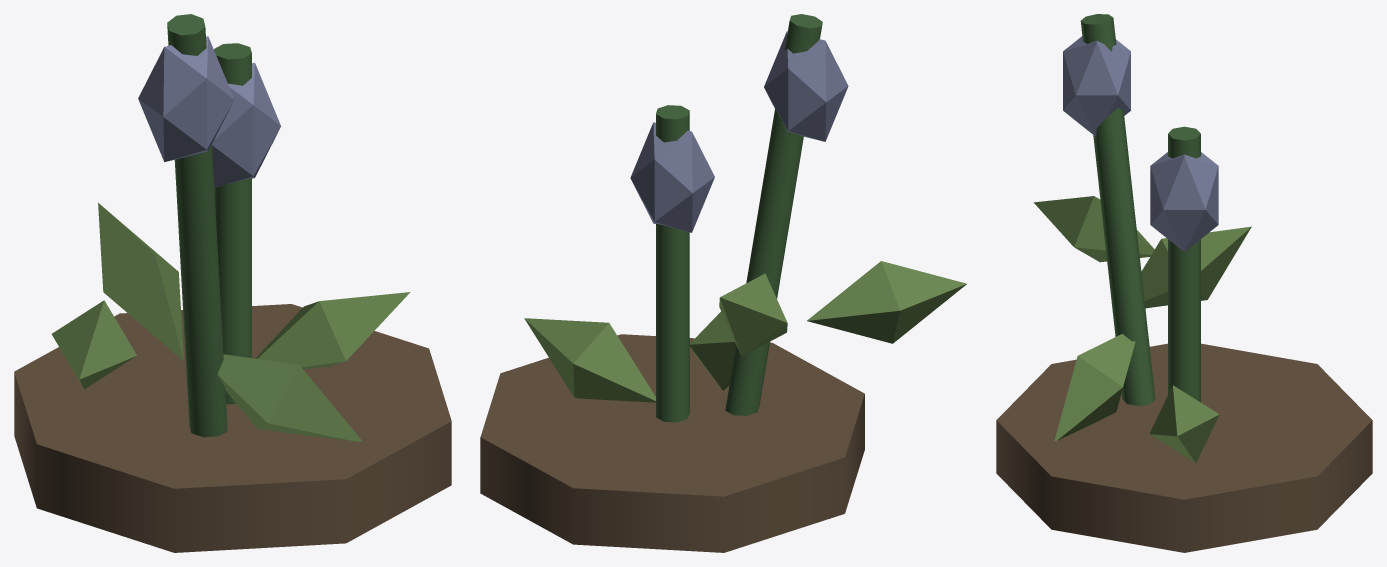
The model's file is plant-lavender-1.glb.
3 renders of one model, left to right at view 1: azimuth 30°, elevation 25°; view 2: azimuth 150°, elevation 25°; view 3: azimuth 270°, elevation 25°, orthographic. The views are drawn at different scales.
Visible parts, largest first — view 1: plant-lavender-1-visual; view 2: plant-lavender-1-visual; view 3: plant-lavender-1-visual.
Part boxes in pixels (x1,y1,x2,y2): plant-lavender-1-visual: (14, 14, 451, 552); plant-lavender-1-visual: (480, 14, 966, 552); plant-lavender-1-visual: (996, 14, 1372, 552).
Size of the model in its own units: 0.3596 by 0.3907 by 0.32.
